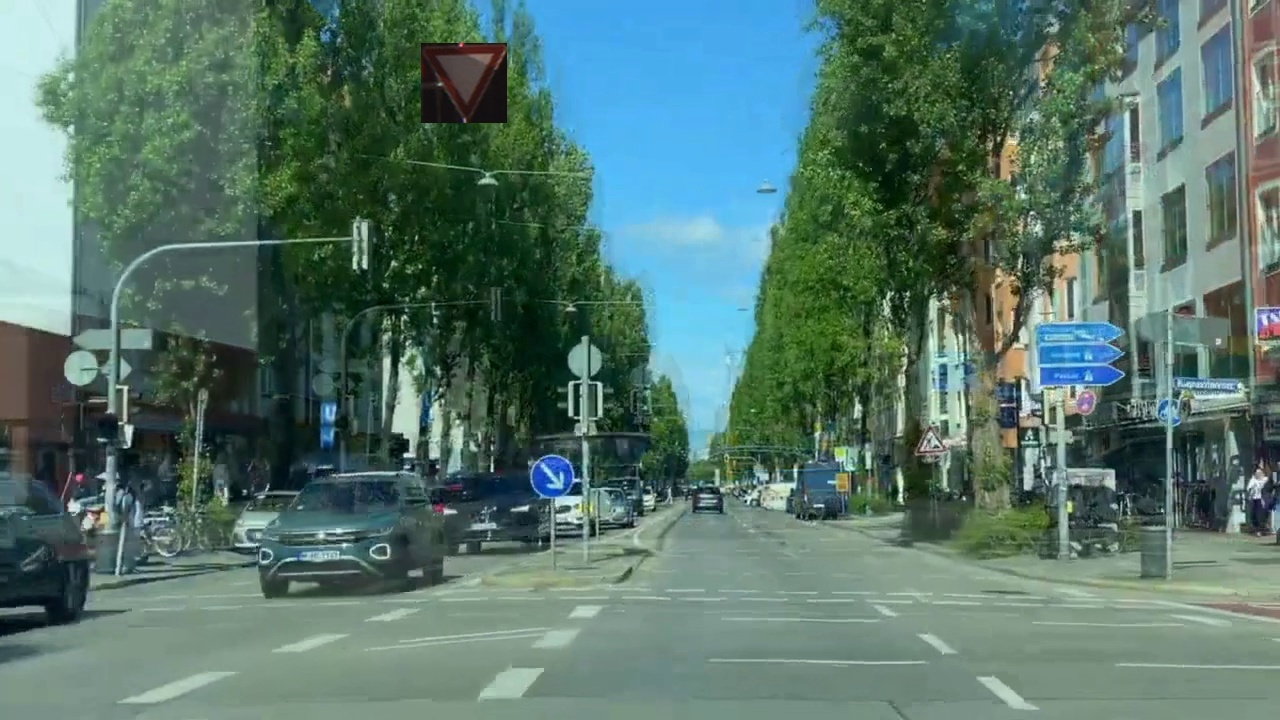Yield: (421, 43, 507, 123)
